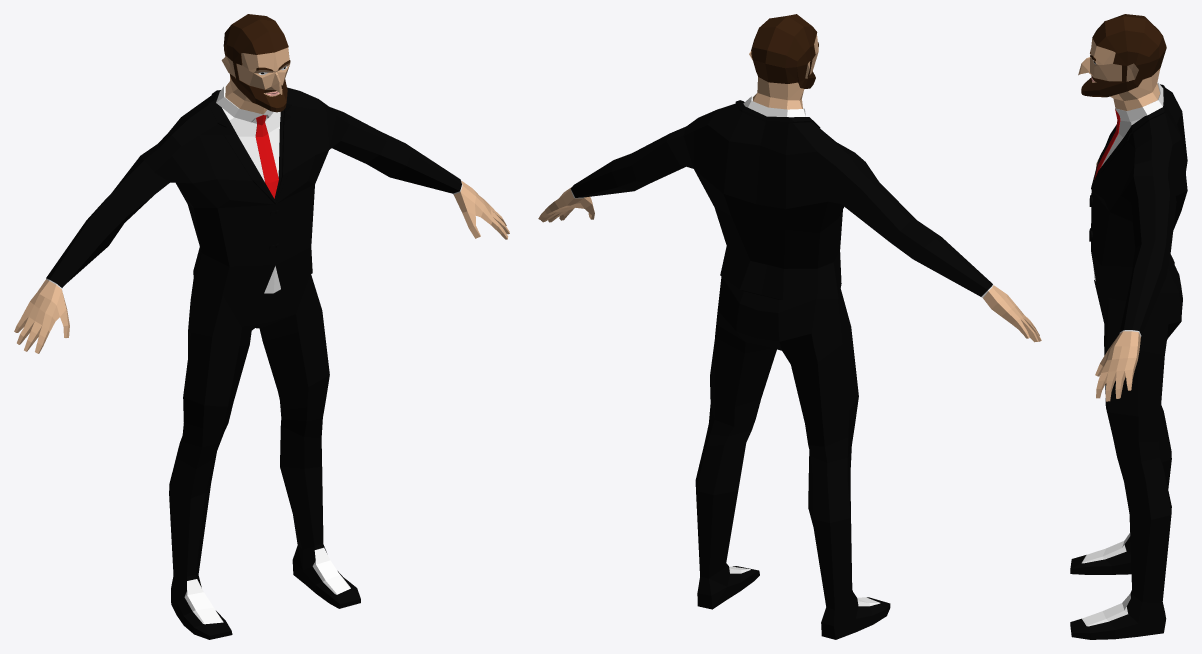
Rendered from Jamal T-Pose.fbx.
3 views of the same model, side by side, from view 1: azimuth 30°, elevation 25°; view 2: azimuth 150°, elevation 25°; view 3: azimuth 270°, elevation 25° (orthographic).
Visible parts, largest first — view 1: Jamal; view 2: Jamal; view 3: Jamal.
Boxes of the visible parts, <box> form: Jamal: <box>14,14,509,639</box>; Jamal: <box>538,14,1041,639</box>; Jamal: <box>1070,14,1187,639</box>.
Bounding box in the file's own units: 285 × 325 × 59.15.
